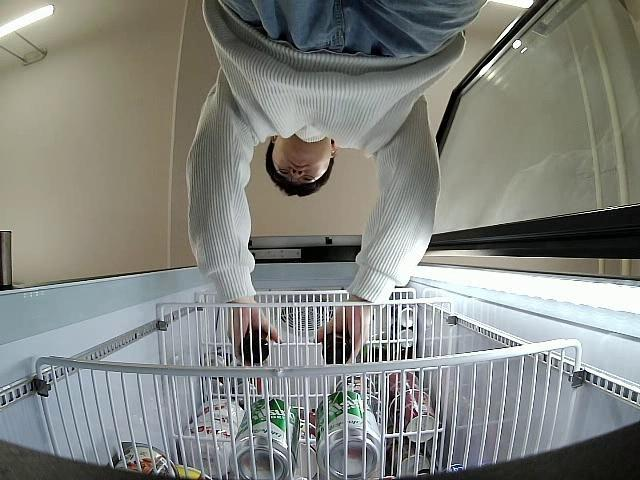17_vita500: (240, 332, 270, 364), (324, 333, 351, 364)
